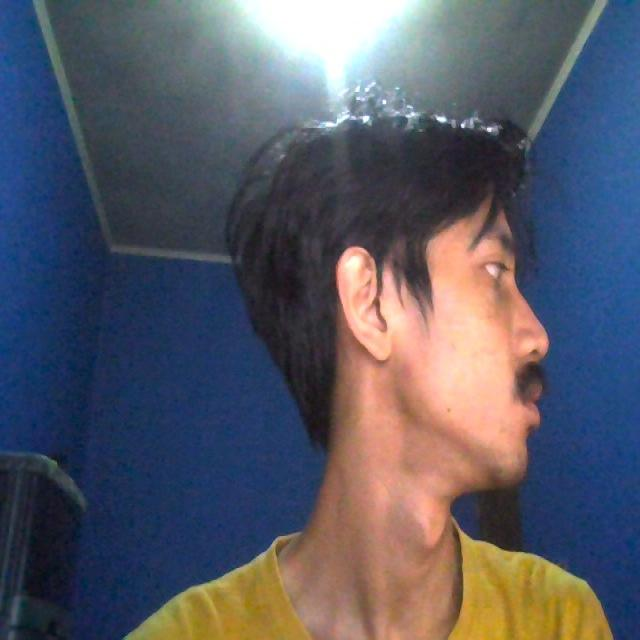melihat kekiri: (192, 98, 562, 520)
